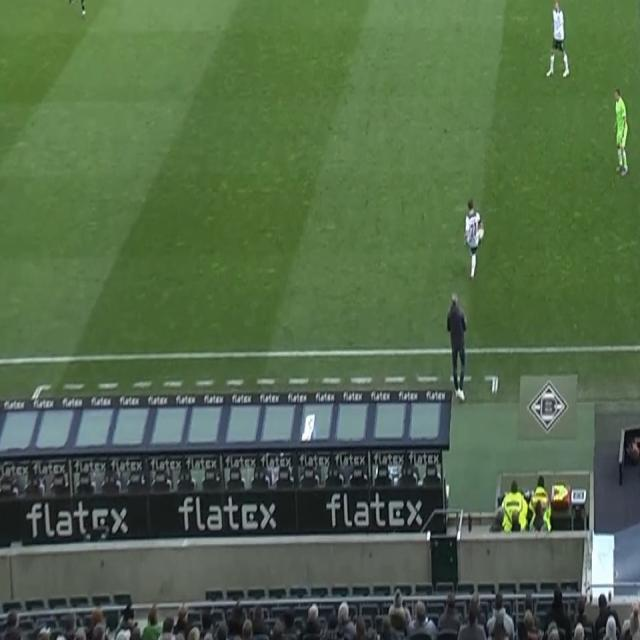ball: (478, 225, 484, 239)
